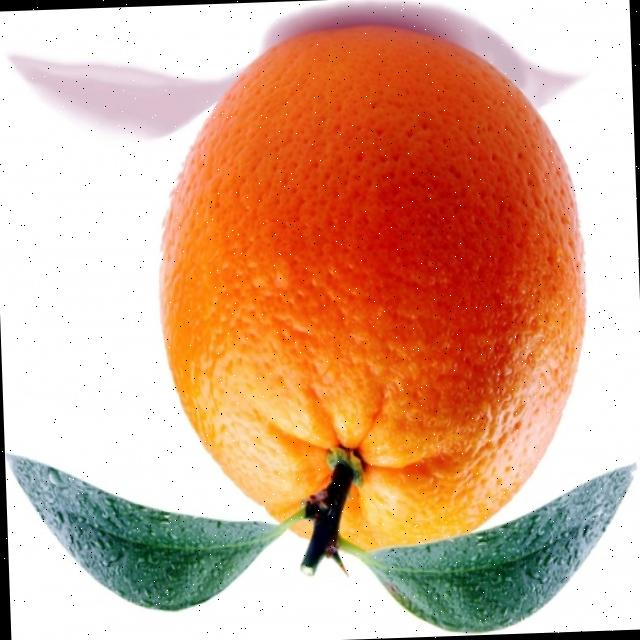Jeruk: (148, 16, 596, 578)
